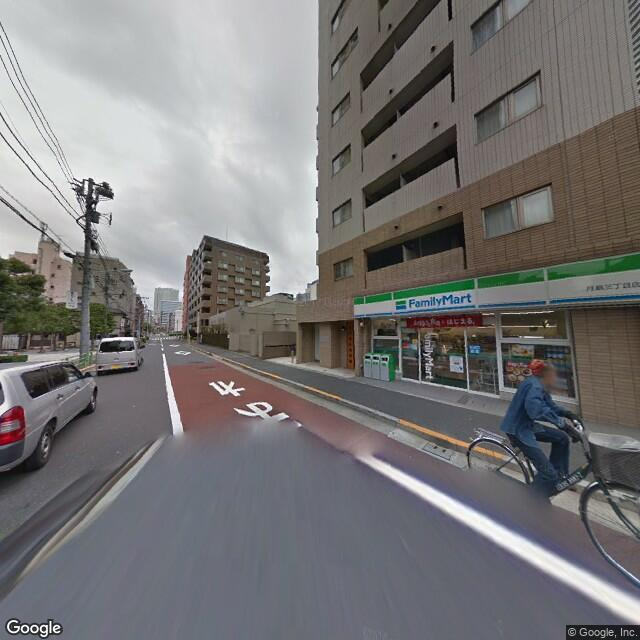family_mart: (351, 250, 639, 321), (392, 286, 476, 316)
